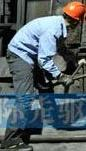boots: (1, 139, 33, 151), (1, 1, 1, 1)
gloves: (55, 72, 72, 85), (1, 0, 1, 1)
hard-hat: (61, 1, 85, 22)
ppe-suit: (1, 14, 69, 143)
